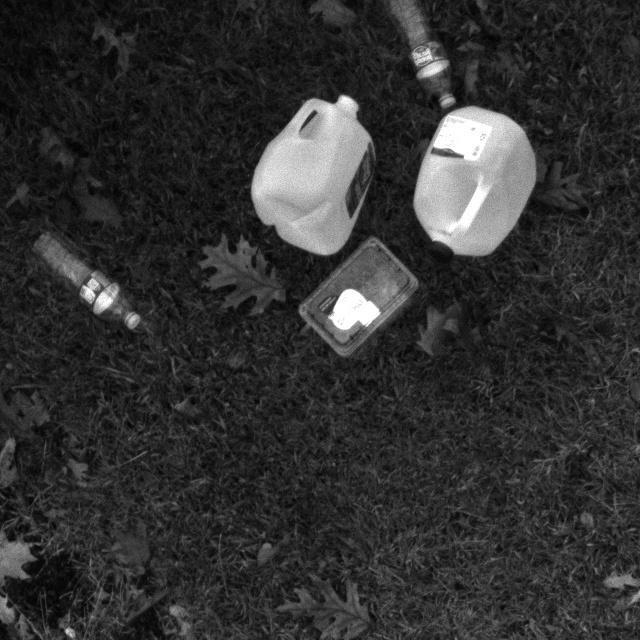bottle: (25, 235, 152, 340), (375, 0, 468, 117)
can: (249, 79, 399, 272), (406, 99, 556, 262)
container: (283, 236, 428, 372)
